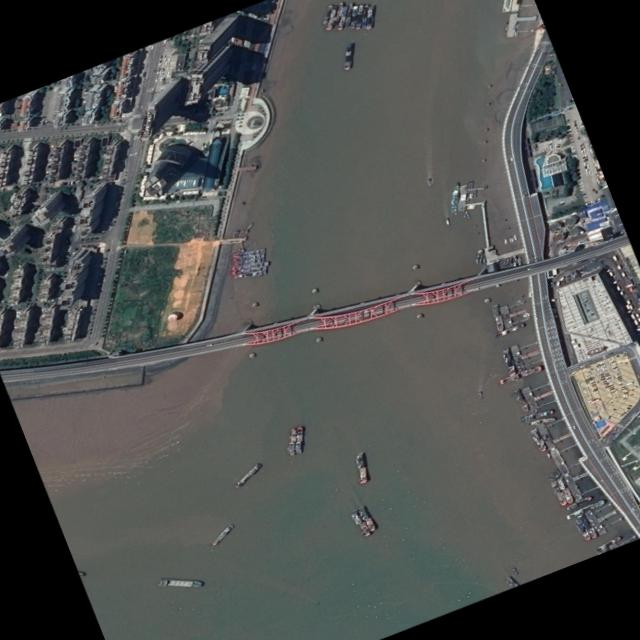ship: (499, 364, 542, 384), (566, 498, 605, 519), (235, 463, 262, 487), (350, 509, 371, 536), (577, 513, 598, 538), (556, 476, 574, 503), (212, 523, 235, 544), (494, 322, 524, 337), (358, 505, 376, 530), (565, 495, 593, 510), (595, 535, 621, 551), (158, 577, 204, 586), (530, 427, 547, 451), (551, 481, 568, 505), (573, 519, 592, 540), (520, 409, 553, 421), (513, 388, 530, 411), (356, 451, 368, 483), (503, 346, 516, 374), (491, 303, 504, 331), (232, 260, 269, 269), (234, 248, 265, 257), (326, 5, 338, 28), (344, 42, 354, 69), (451, 182, 460, 212), (337, 5, 348, 28), (235, 269, 266, 277), (234, 253, 265, 261), (235, 257, 264, 265), (355, 3, 364, 28), (334, 2, 344, 24), (366, 4, 375, 28), (344, 3, 353, 26), (528, 417, 555, 424), (296, 426, 303, 452), (323, 5, 332, 23), (289, 428, 295, 455), (351, 4, 358, 27), (362, 4, 369, 27), (502, 0, 512, 10), (445, 217, 451, 225), (427, 177, 432, 186), (546, 450, 551, 458)
